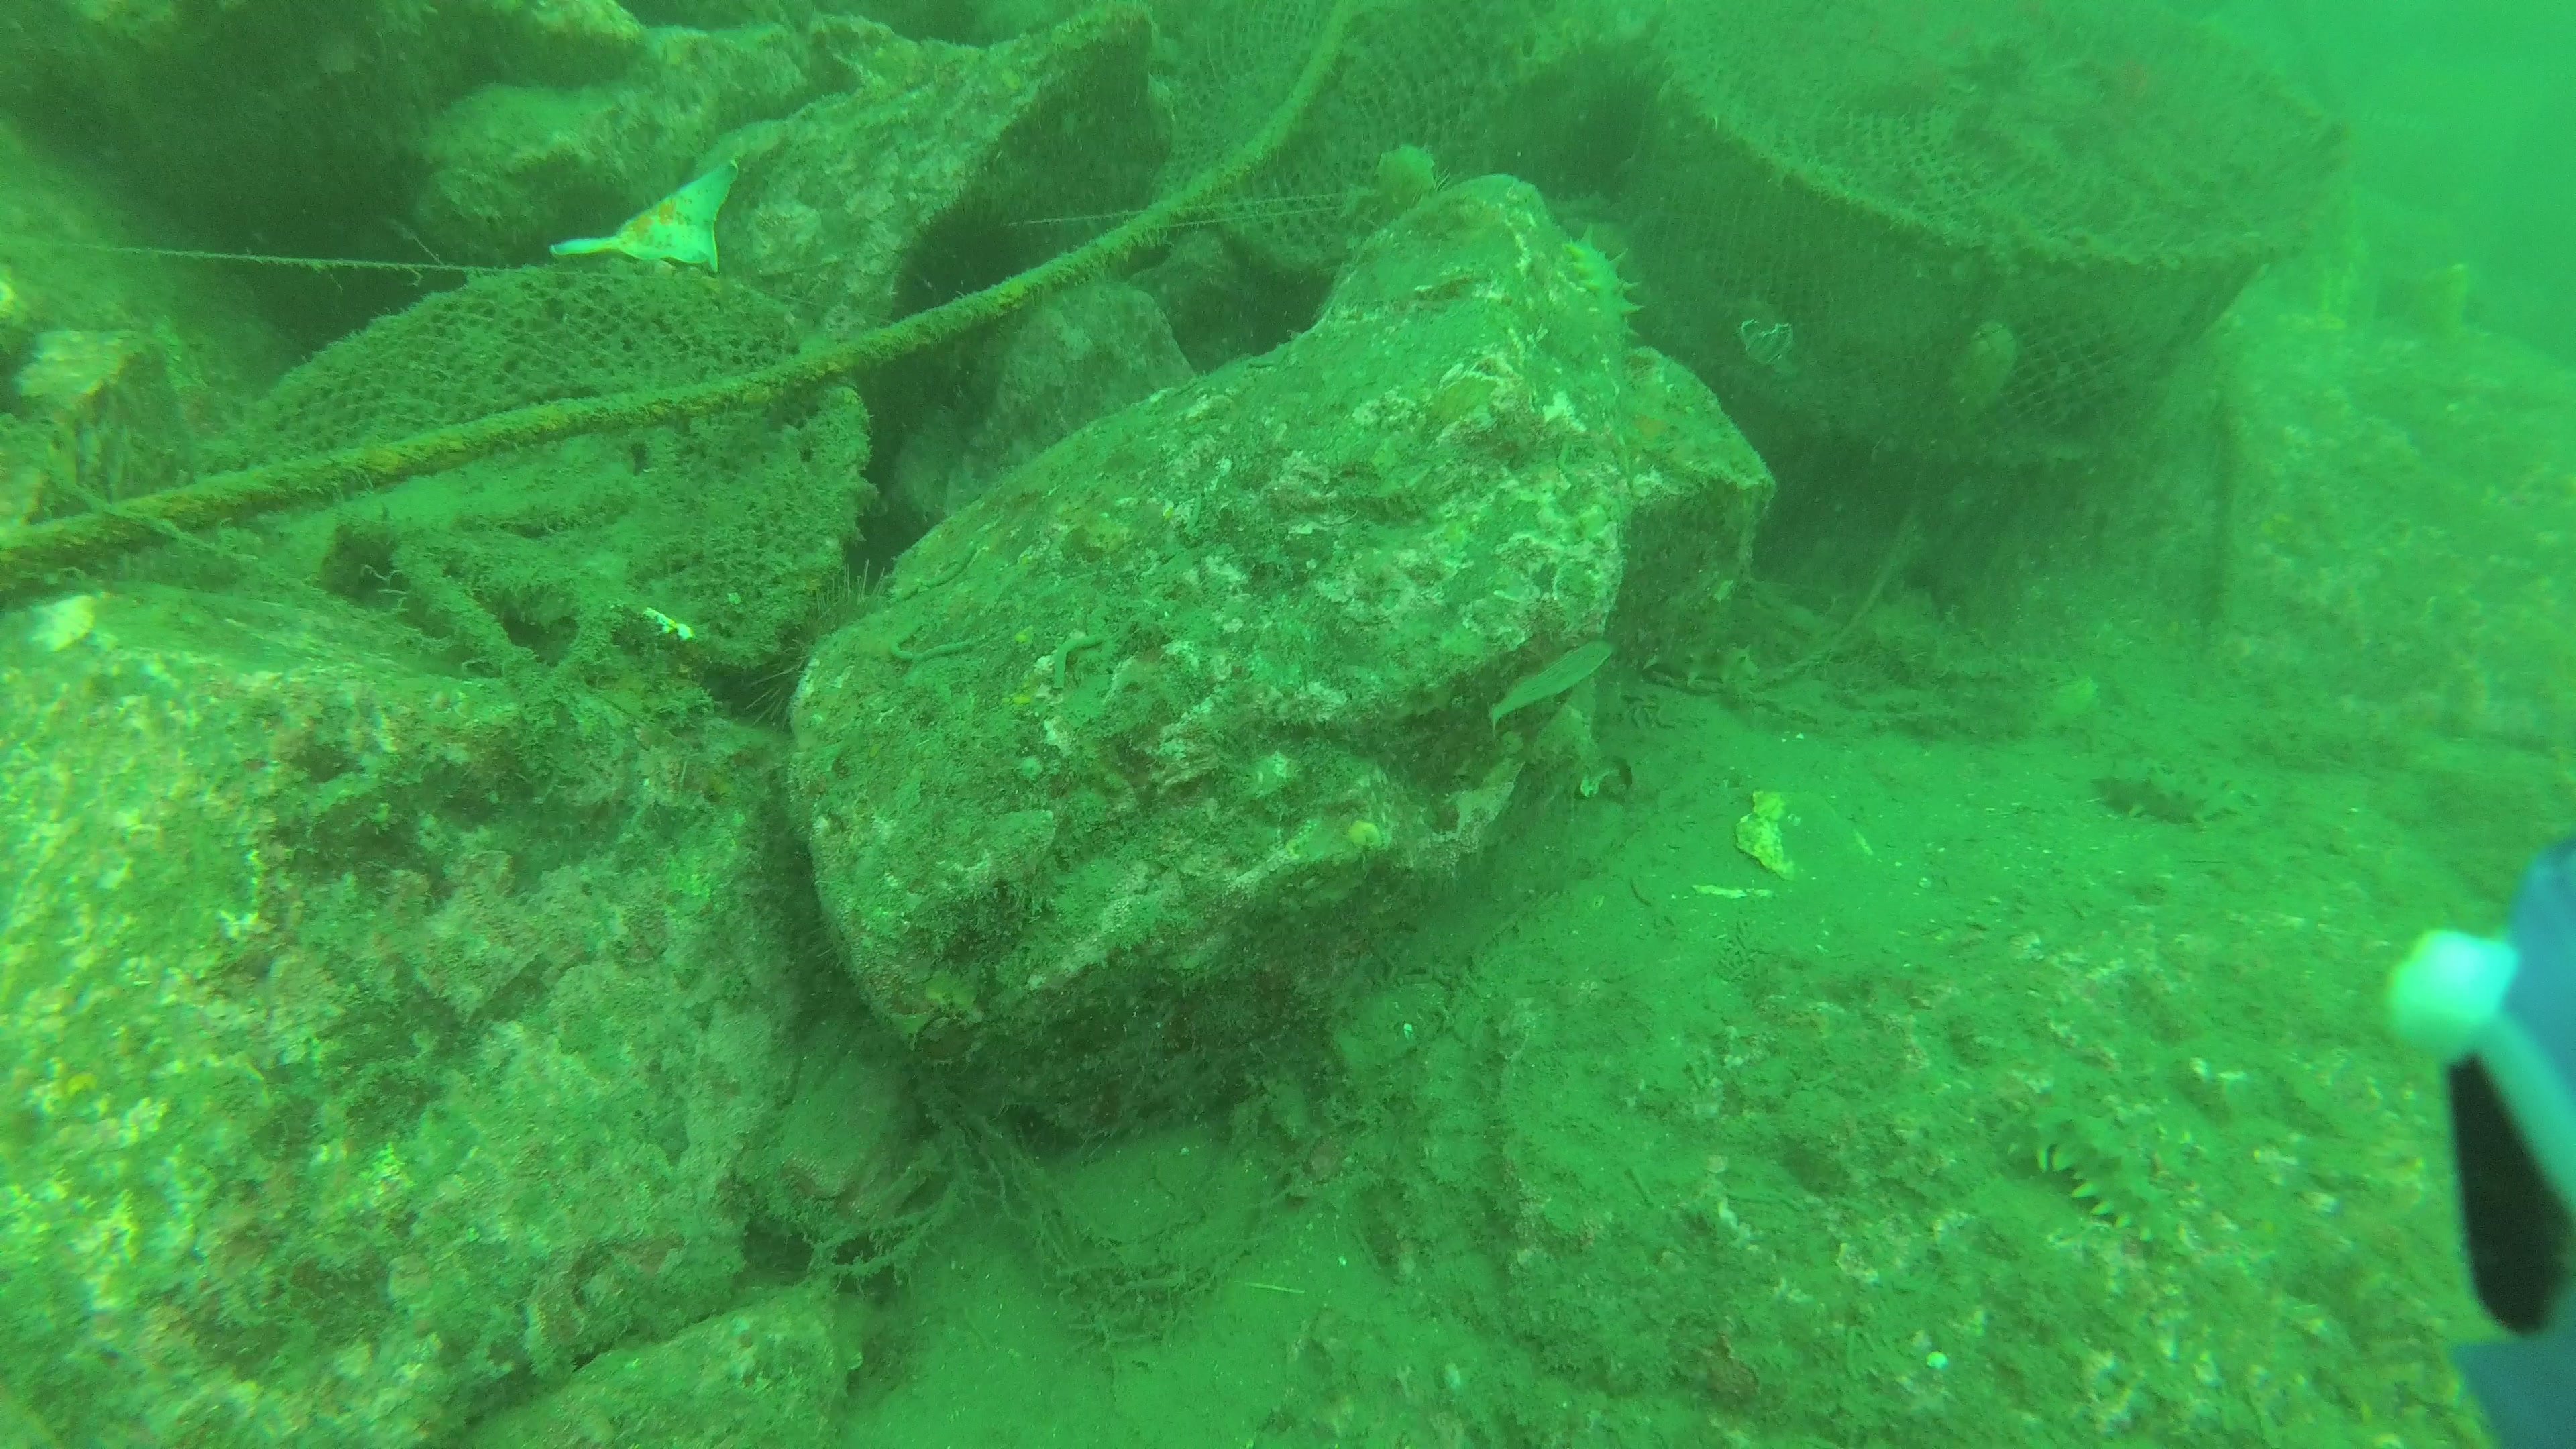echinus: (754, 556, 902, 736)
holothurian: (1994, 1081, 2174, 1254), (2091, 745, 2261, 837), (1555, 225, 1651, 338)
starfish: (548, 157, 740, 274)
